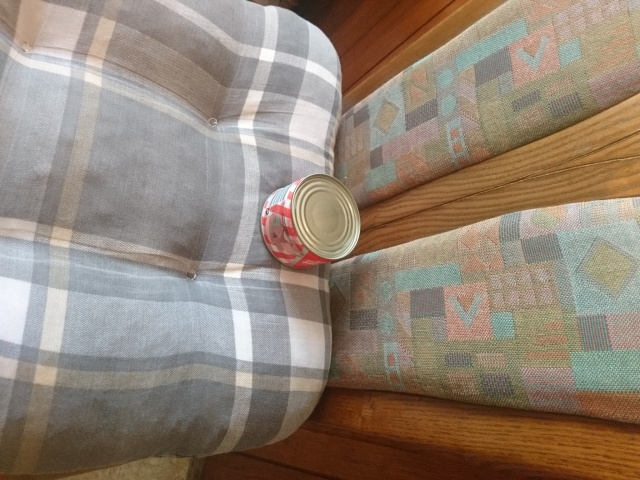Podravka Luncheon Meat 150g: (257, 170, 363, 273)
